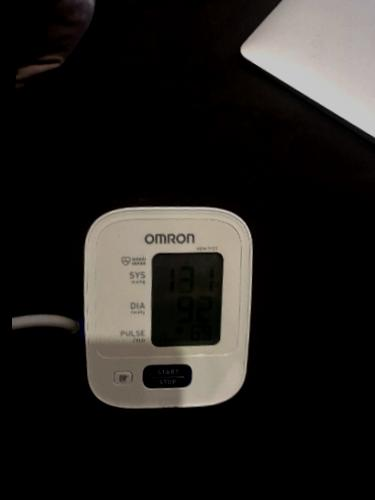bpm: (150, 252, 222, 348)
